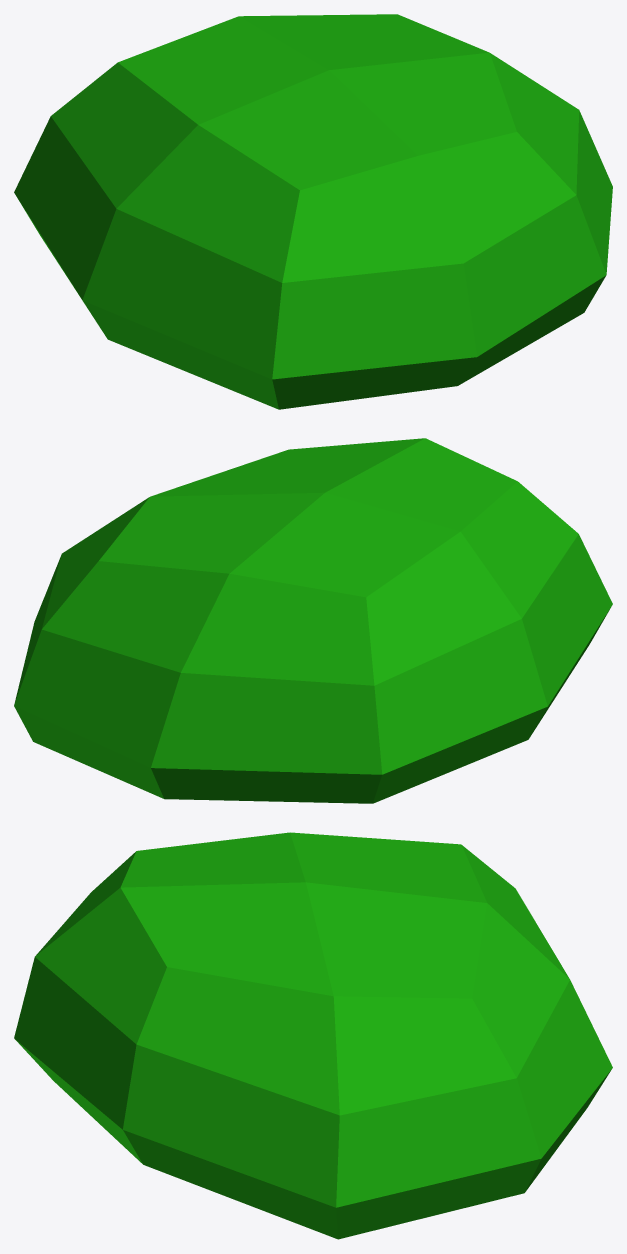
File: Bush2.fbx
3 views of the same model, one above another, from view 1: azimuth 30°, elevation 25°; view 2: azimuth 150°, elevation 25°; view 3: azimuth 270°, elevation 25° (orthographic). The views are drawn at different scales.
Parts seen in each view (by area): view 1: Cube.001; view 2: Cube.001; view 3: Cube.001.
Part boxes in pixels (x1,y1,x2,y2): Cube.001: (14,14,612,409); Cube.001: (14,438,612,803); Cube.001: (14,832,612,1239).
Bounding box in the file's own units: 3.26 × 1.41 × 3.33.
